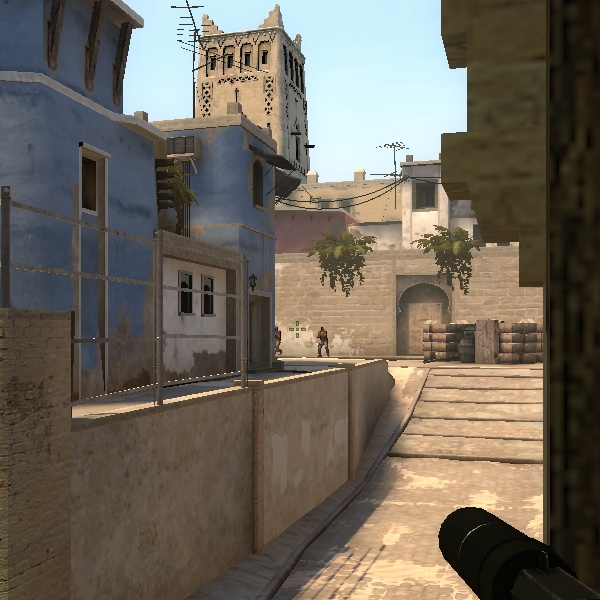t_body: (312, 321, 333, 359)
